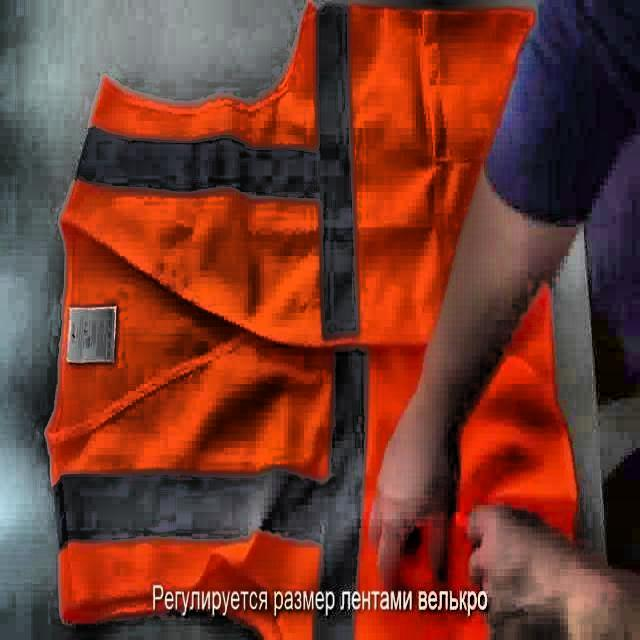safety_jacket: (43, 0, 578, 635)
